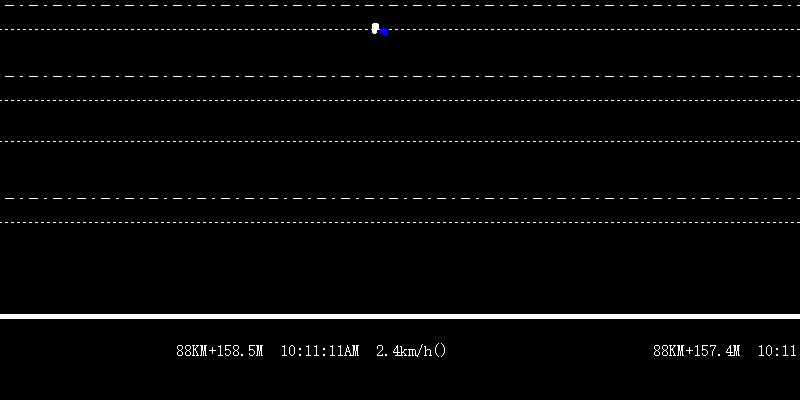face_2: (369, 21, 388, 42)
